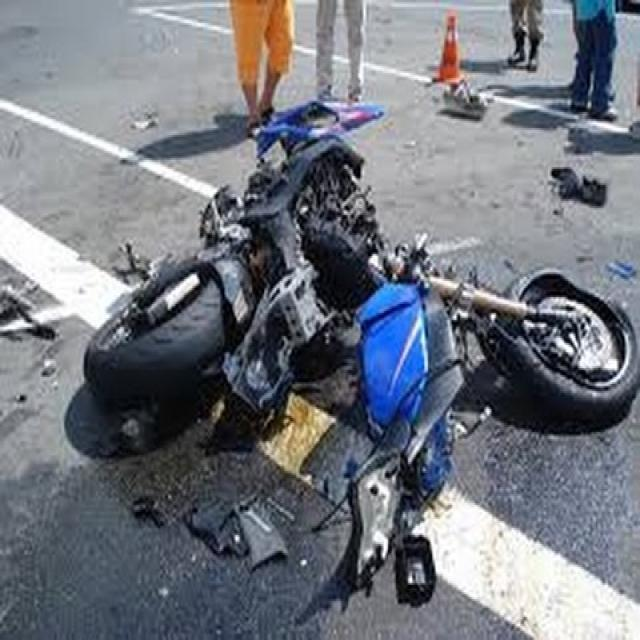accident: (66, 100, 640, 602)
